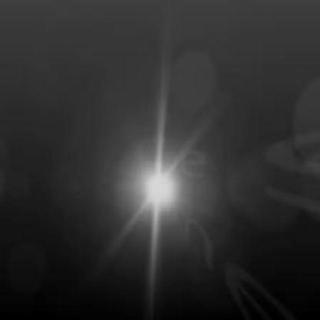other: (132, 149, 196, 230)
